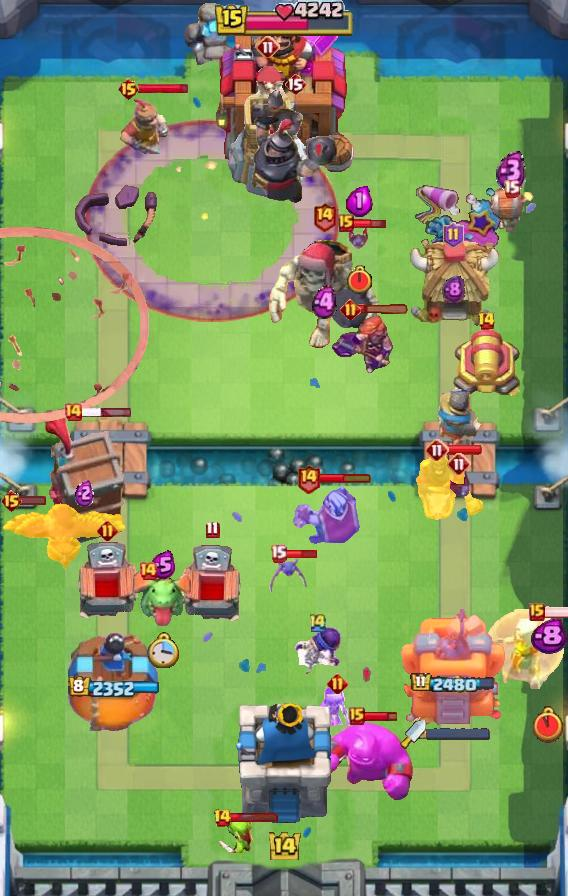bar: (401, 601, 505, 731)
barbarian: (268, 556, 312, 596)
barbarian-barrel: (446, 469, 472, 499), (347, 226, 371, 252)
clock: (213, 0, 355, 40)
clone: (313, 721, 421, 803)
dart-goblin: (42, 408, 126, 546)
earthquake: (120, 94, 170, 154)
electro-giant: (266, 237, 382, 351)
electro-spirit: (530, 617, 567, 654), (496, 149, 527, 190), (347, 183, 374, 216), (312, 285, 337, 320), (150, 550, 176, 580), (443, 276, 466, 305), (74, 477, 93, 506)
electro-wizard: (131, 567, 195, 627)
elixir: (147, 632, 180, 668), (533, 706, 563, 743), (347, 265, 374, 295)
elixir-golem-mid: (72, 541, 142, 627), (177, 544, 247, 630)
emote: (138, 81, 189, 94), (320, 472, 373, 484), (358, 304, 410, 315), (80, 406, 132, 417), (229, 812, 279, 823), (352, 217, 387, 231), (362, 709, 398, 722), (447, 444, 483, 456), (284, 548, 320, 560), (11, 495, 47, 506), (544, 606, 568, 618)
firecracker: (435, 390, 483, 450)
freeze: (414, 452, 486, 520)
goblin: (319, 686, 355, 726)
goblin-ball: (292, 625, 344, 679)
king-tower: (211, 7, 357, 181), (235, 703, 333, 826)
king-tower-bar: (426, 728, 490, 740)
knight: (487, 188, 535, 232)
mother-witch: (0, 502, 128, 574)
poison: (484, 608, 568, 700)
prince: (406, 239, 500, 329)
queen-tower: (68, 633, 160, 731)
rocket: (84, 119, 340, 323)
royal-guardian: (249, 87, 341, 205)
royal-recruit: (450, 328, 522, 402)
selected: (68, 676, 160, 700), (410, 672, 496, 696)
skeleton-barrel: (0, 67, 150, 426)
skeleton-king: (292, 480, 362, 548)
tesla-evolution: (330, 312, 394, 376)
text: (312, 200, 337, 231), (295, 462, 320, 493), (256, 35, 280, 59), (425, 438, 449, 462), (447, 452, 471, 476), (116, 77, 139, 101), (1, 489, 24, 513), (444, 222, 465, 248), (284, 72, 306, 96), (339, 299, 360, 321), (98, 519, 119, 541), (327, 673, 348, 695), (308, 611, 328, 632), (63, 402, 83, 422), (138, 561, 158, 581), (212, 808, 232, 828), (477, 311, 496, 331), (503, 178, 520, 197), (270, 545, 287, 564), (338, 214, 354, 232), (529, 603, 545, 621), (349, 707, 365, 725), (204, 521, 219, 539)
valkyrie-evolution: (178, 0, 252, 82)
zap: (217, 816, 253, 853)
zappy: (225, 63, 312, 201)
